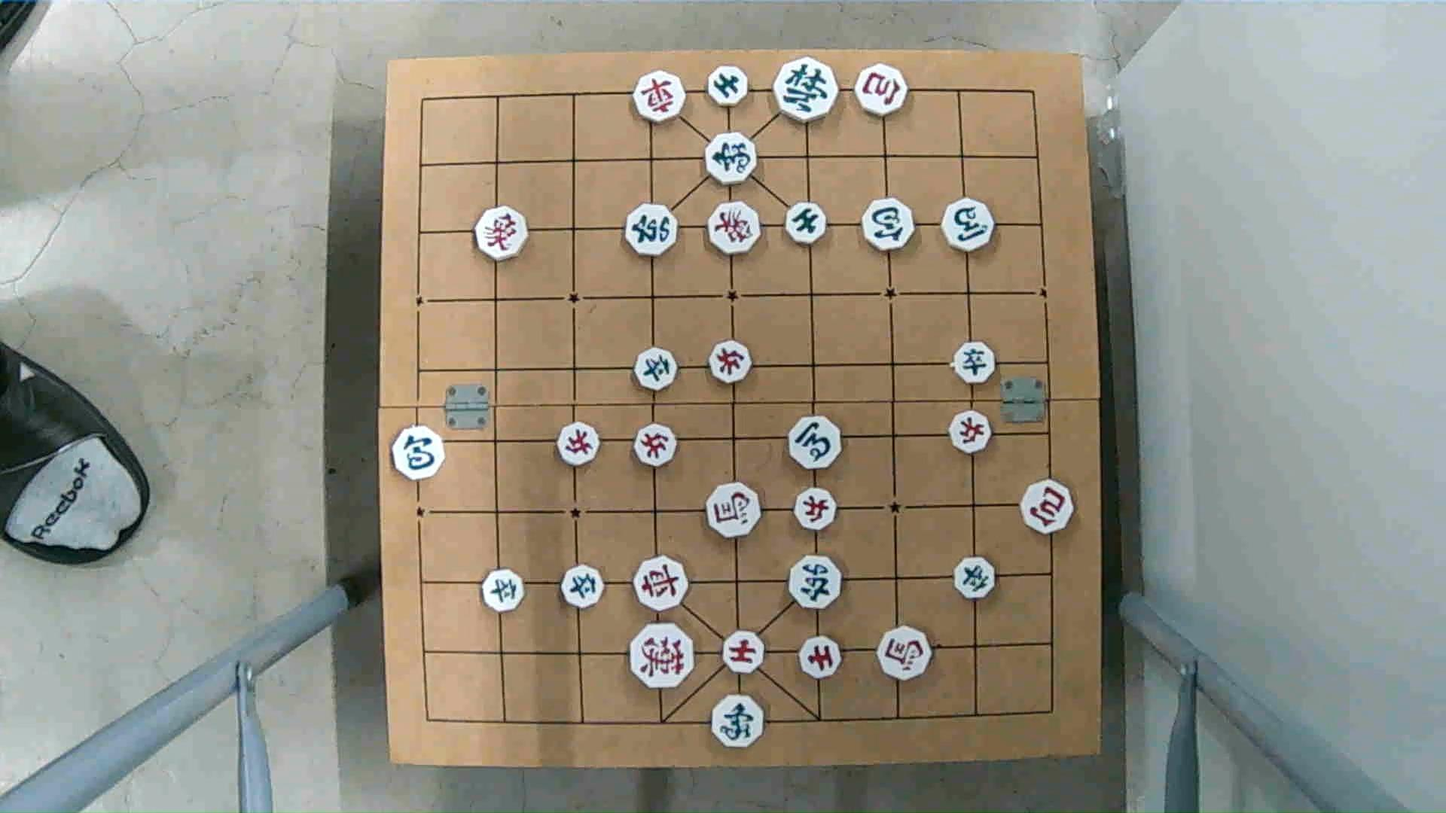cha_green: (786, 557, 843, 607), (626, 205, 679, 252)
cha_red: (633, 556, 690, 605), (632, 72, 688, 119)
jol_green: (479, 571, 526, 611), (559, 568, 606, 606), (951, 344, 996, 382), (953, 560, 997, 598), (636, 350, 677, 387)
jol_red: (555, 421, 602, 465), (707, 342, 756, 382), (633, 425, 679, 464), (947, 412, 994, 450), (794, 489, 839, 528)
ma_green: (787, 417, 846, 467), (941, 202, 996, 249)
ma_red: (875, 626, 933, 681), (706, 484, 761, 537)
po_green: (392, 428, 447, 477), (861, 203, 916, 248)
po_red: (1018, 483, 1075, 531), (855, 65, 906, 116)
sa_green: (705, 67, 752, 106), (783, 202, 829, 241)
sa_red: (798, 638, 845, 678), (721, 632, 766, 671)
sang_green: (715, 697, 764, 746), (707, 135, 758, 182)
sang_red: (707, 203, 761, 251), (476, 206, 526, 257)
wang_green: (771, 63, 840, 120)
wang_red: (631, 628, 689, 684)
